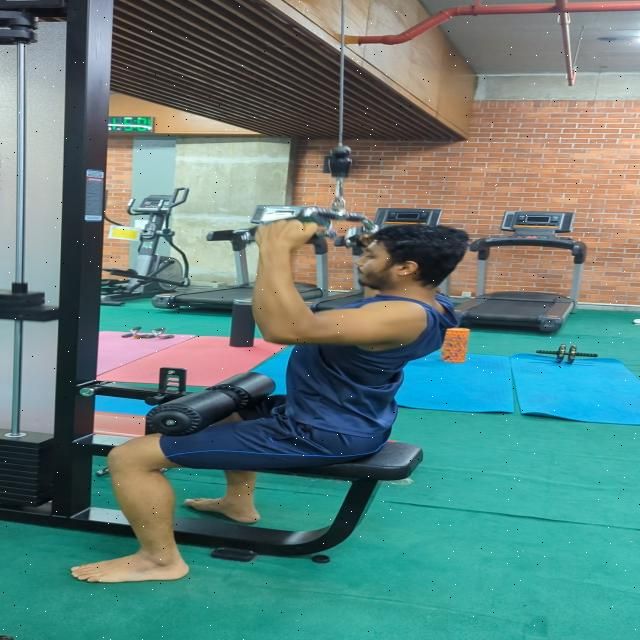Normal_LatPulldown: (44, 202, 498, 593)
